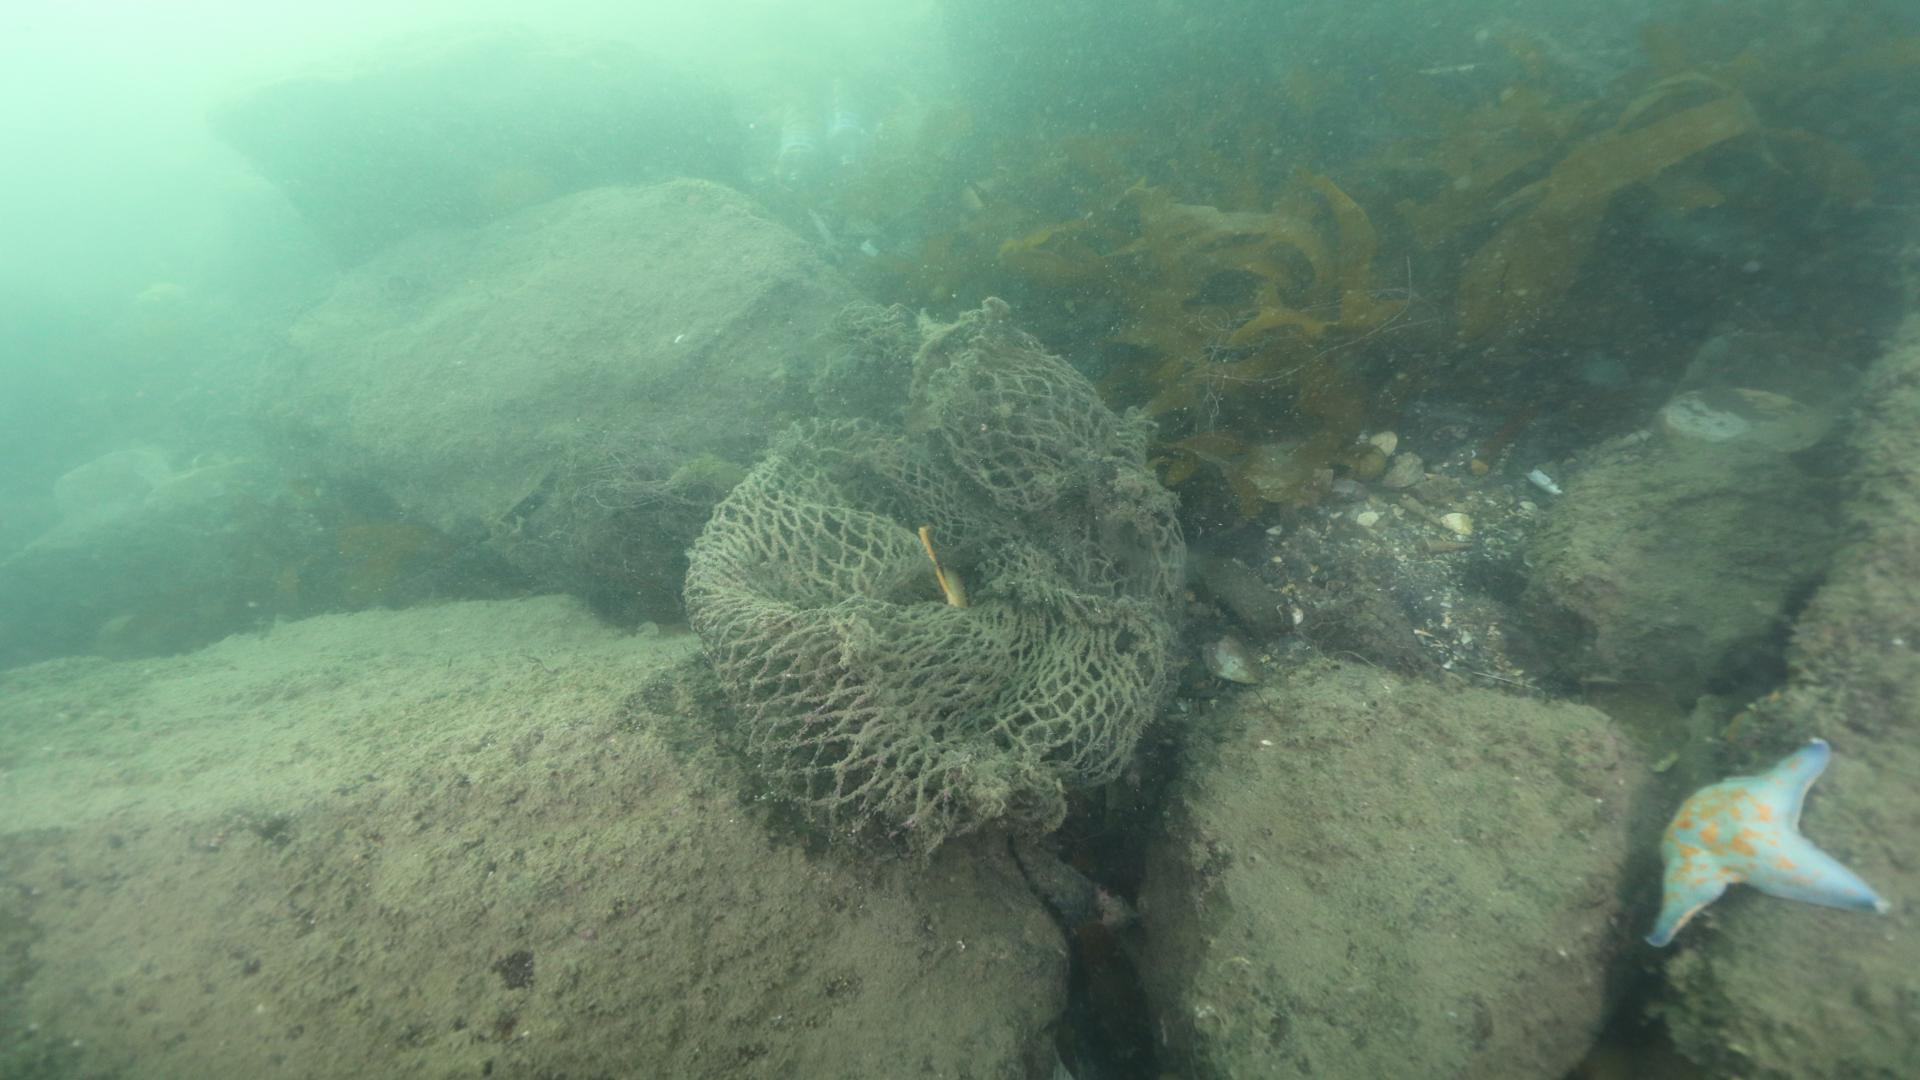fish net: (680, 295, 1191, 849)
